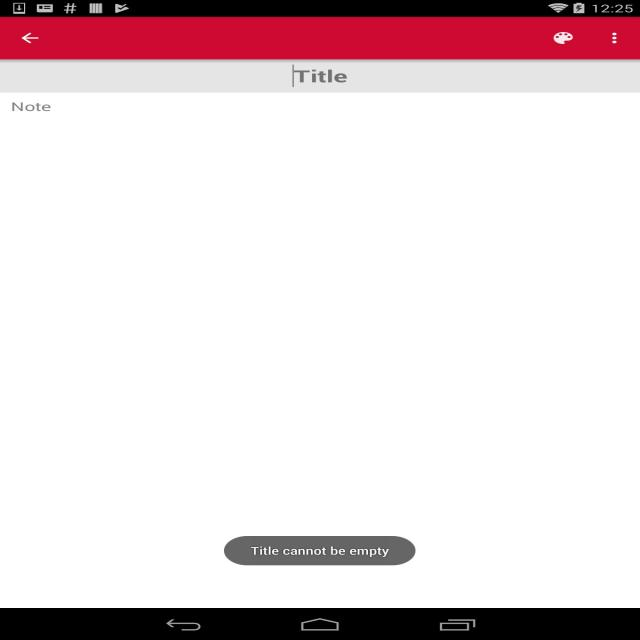button: (539, 27, 589, 54), (592, 26, 635, 54), (17, 28, 47, 50)
heading: (290, 64, 350, 91)
text: (247, 544, 395, 561), (10, 98, 54, 118)
